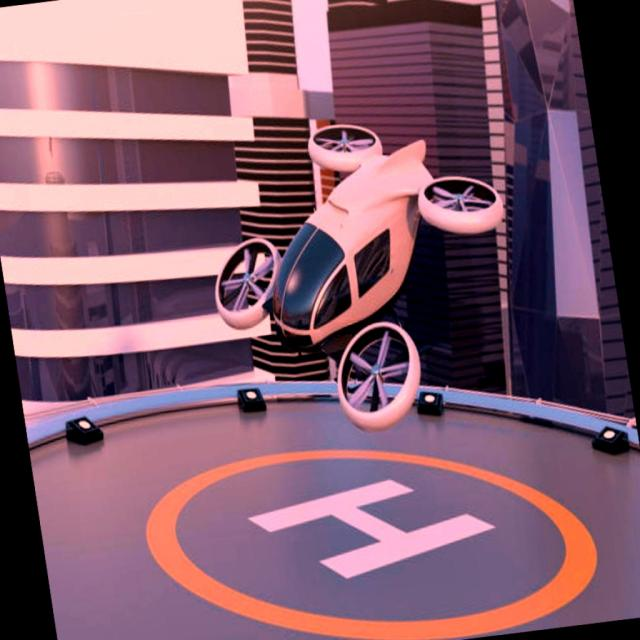helipad: (135, 443, 602, 639)
